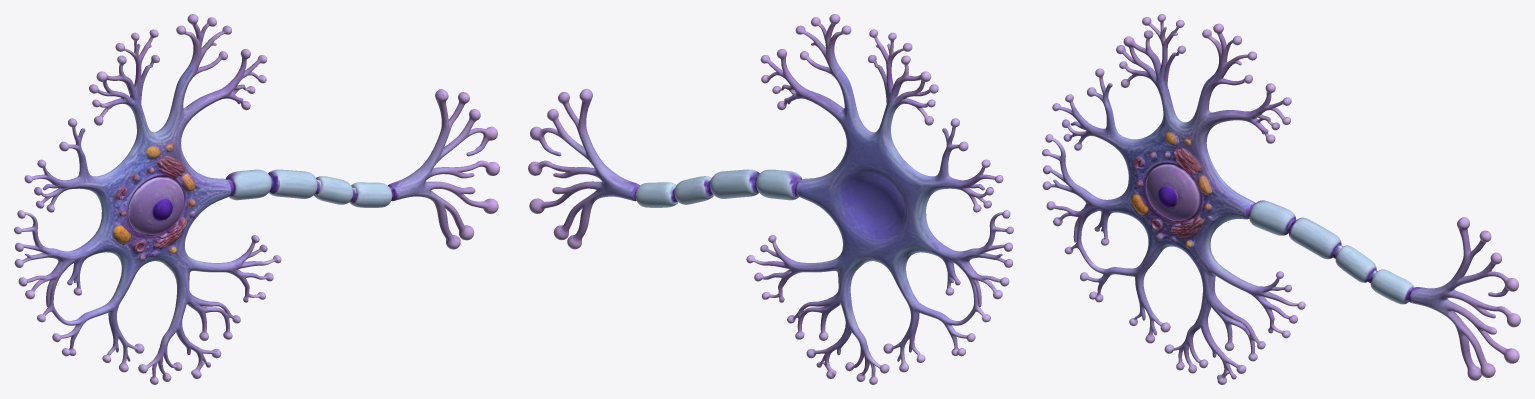
File: neuron-cell.glb
The picture shows the model from 3 angles, left to right: view 1: azimuth 30°, elevation 25°; view 2: azimuth 150°, elevation 25°; view 3: azimuth 330°, elevation 25°; orthographic projection.
Visible parts, largest first — view 1: node_0; view 2: node_0; view 3: node_0.
Part boxes in pixels (x1,y1,x2,y2): node_0: [14, 14, 499, 384]; node_0: [528, 14, 1013, 384]; node_0: [1042, 14, 1520, 384].
Size of the model in its own units: 1.15 by 0.8248 by 0.0863.
1 material, 1 textured.
